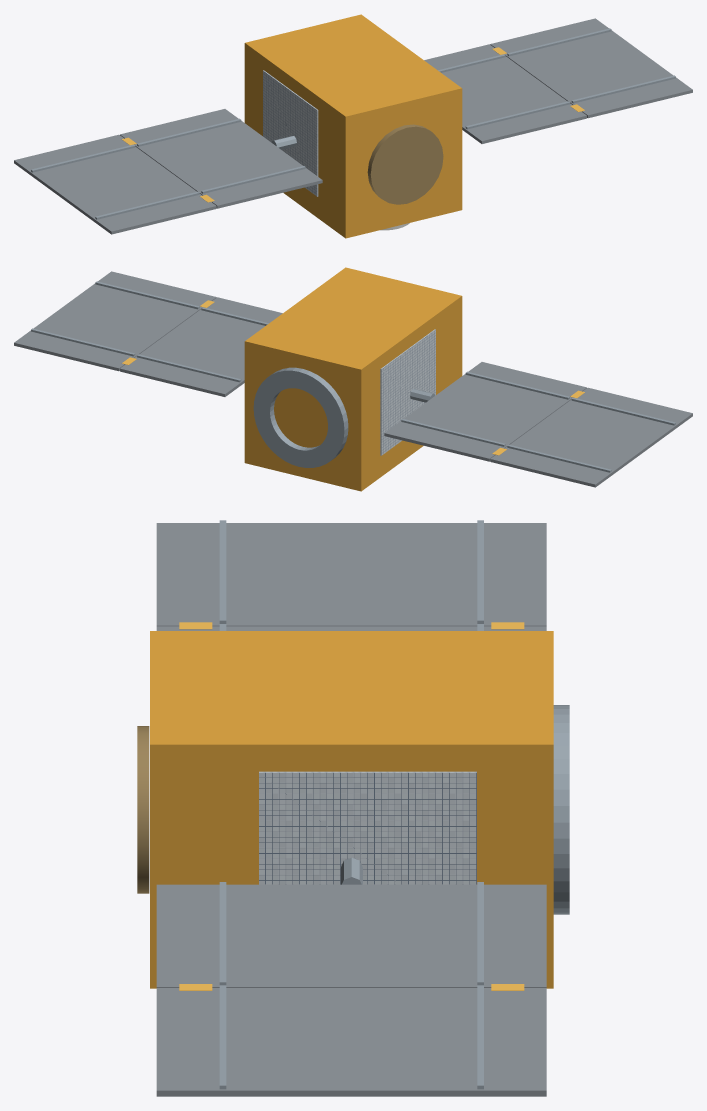
File: angels.glb
The picture shows the model from 3 angles, top to bottom: view 1: azimuth 30°, elevation 25°; view 2: azimuth 150°, elevation 25°; view 3: azimuth 270°, elevation 25°; orthographic projection. The views are drawn at different scales.
Visible parts, largest first — view 1: Solar panel substrate (×4), Spacecraft body, Nadir patch, Thermal radiator tiles, Array rear rib (×7); view 2: Solar panel substrate (×4), Spacecraft body, Launch interface, Thermal radiator tiles, Array rear rib (×7); view 3: Solar panel substrate (×4), Spacecraft body, Thermal radiator tiles, Launch interface, Nadir patch.
Part boxes in pixels (<box>): Solar panel substrate (×4): <box>14,18,692,234</box>; Spacecraft body: <box>244,14,462,238</box>; Nadir patch: <box>367,124,443,204</box>; Thermal radiator tiles: <box>263,70,318,196</box>; Array rear rib (×7): <box>31,28,675,219</box>; Solar panel substrate (×4): <box>14,271,692,487</box>; Spacecraft body: <box>244,267,462,491</box>; Launch interface: <box>253,367,348,467</box>; Thermal radiator tiles: <box>380,329,435,455</box>; Array rear rib (×7): <box>31,281,675,472</box>; Solar panel substrate (×4): <box>156,523,546,1096</box>; Spacecraft body: <box>150,631,553,988</box>; Thermal radiator tiles: <box>259,771,476,884</box>; Launch interface: <box>553,705,569,914</box>; Nadir patch: <box>137,726,149,893</box>.
Bounding box in the file's own units: 0.9985 × 0.2145 × 0.3215.
Materials: 8 (2 with a texture image).
